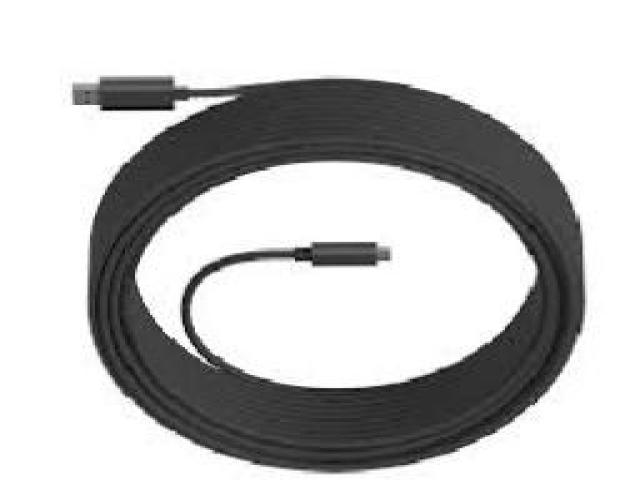wire: (74, 77, 584, 469)
